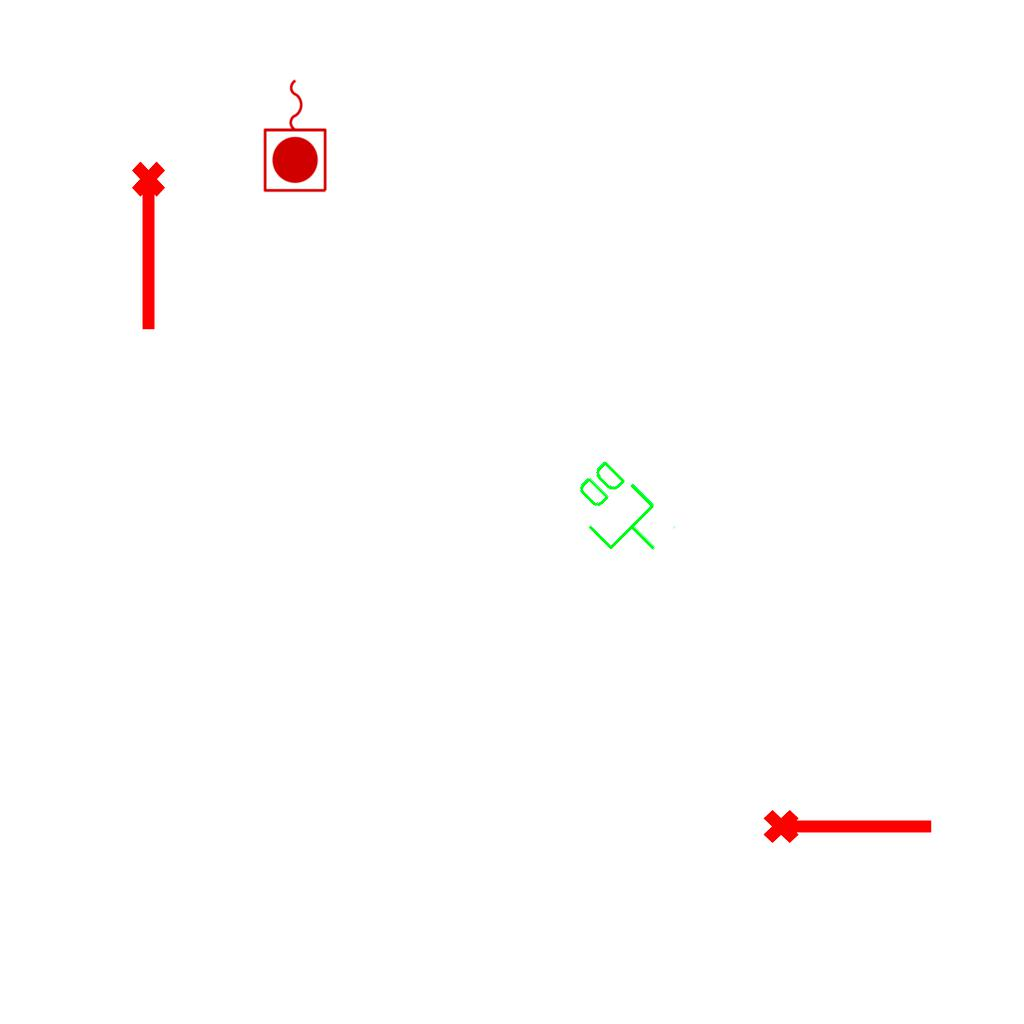ASR_Ansaugoeffnung: (128, 159, 174, 335), (761, 801, 937, 847)
Datenanschluss_zweifach: (558, 452, 681, 575)
Zugtaster: (260, 74, 332, 196)
